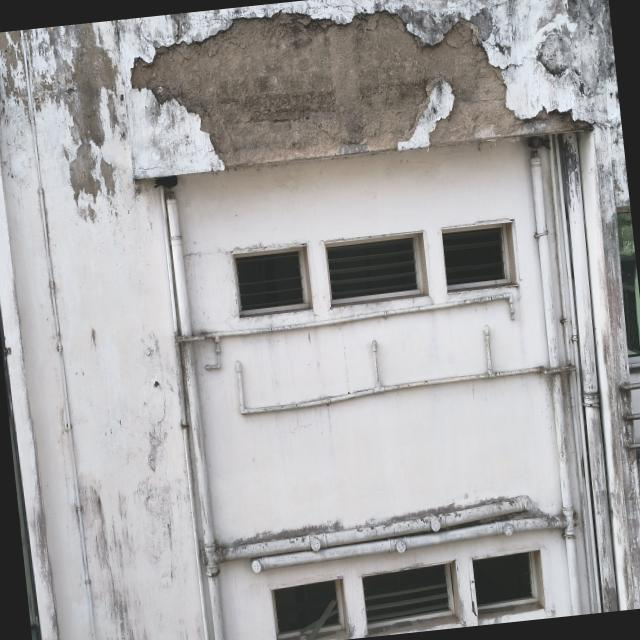Moss growth due to damping: (536, 0, 616, 96), (392, 4, 459, 45), (470, 8, 492, 43)
Paint Peeling: (27, 22, 124, 218), (0, 30, 26, 97)
Scaling: (132, 12, 521, 167)
